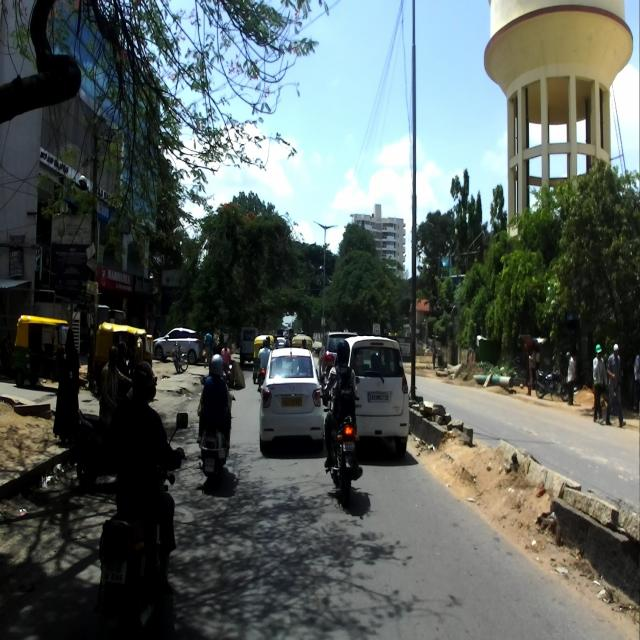Car_Hyundai: (256, 345, 326, 454)
Car_Maruti-Suzuki: (325, 334, 410, 459)
autorickshaw: (11, 312, 71, 388)
motorcycle: (322, 373, 362, 504)
scooter: (196, 373, 237, 490)
